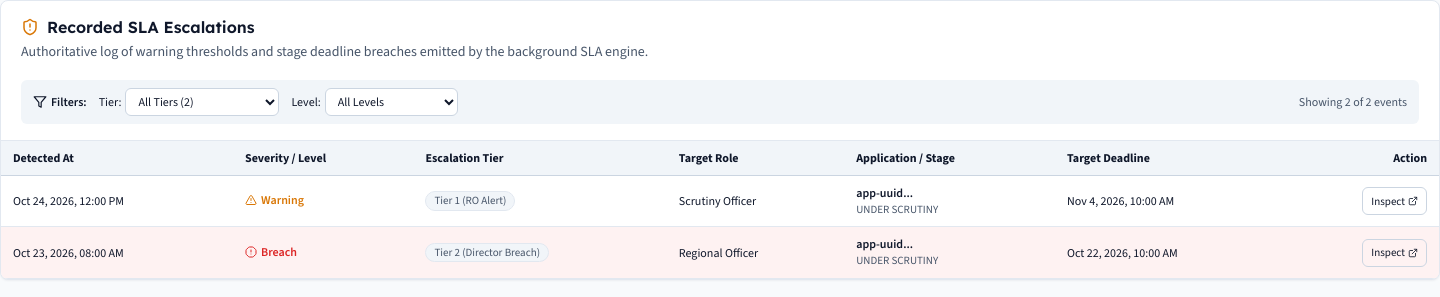
Test: SLA Timer & Escalation Components (FE-05) › SlaEscalationList › renders escalations and filters by tier
Check: the heading "Recorded SLA Escalations" is shown, box [47,17,255,37]
Check: the text "Showing 2 of 2 events" is shown, box [1299,93,1407,111]
Filter by Tier 2
Step 1. Select "Tier 2 (Director Breach)" in the dropdown named "Filter escalations by tier" → (202, 102), box [125,88,279,116]
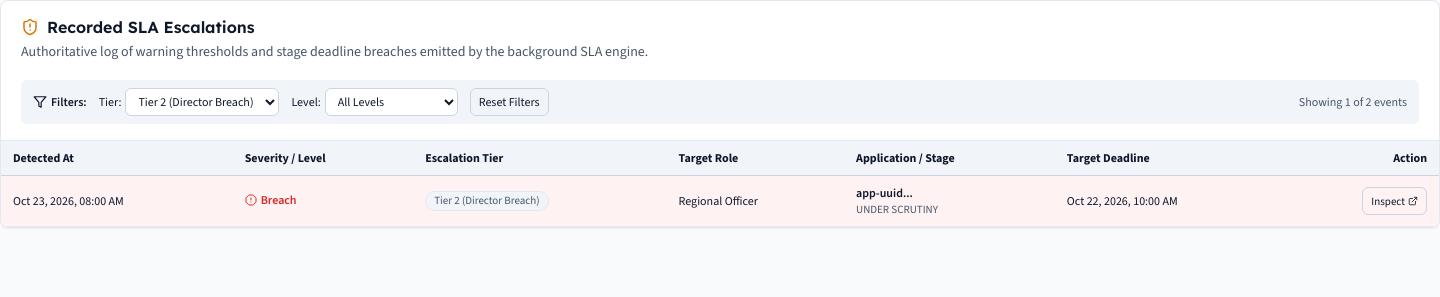
Check: the text "Showing 1 of 2 events" is shown, box [1299,93,1407,111]
Check: the text "Reset Filters" is shown, box [479,96,540,108]
Reset filters
Step 2. Click the button "Reset Filters" → (509, 102), box [470,88,549,116]
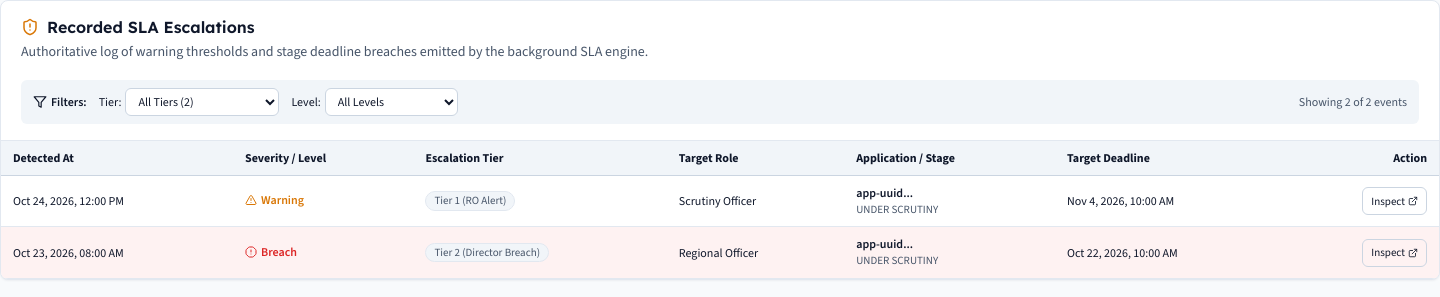
Check: the text "Showing 2 of 2 events" is shown, box [1299,93,1407,111]
